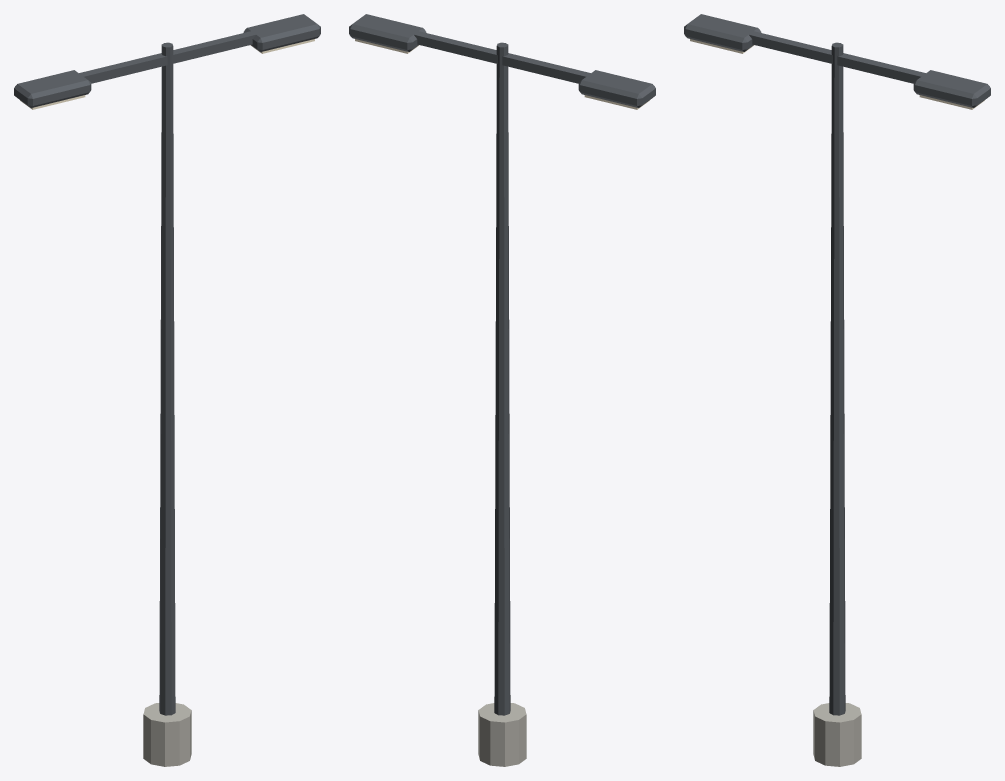
File: PD_LampPost.fbx
The picture shows the model from 3 angles, left to right: view 1: azimuth 30°, elevation 25°; view 2: azimuth 150°, elevation 25°; view 3: azimuth 330°, elevation 25°; orthographic projection.
Visible parts, largest first — view 1: PD_LampPost_Mesh; view 2: PD_LampPost_Mesh; view 3: PD_LampPost_Mesh.
Boxes of the visible parts, box(x1,y1,x2,y2) form: PD_LampPost_Mesh: box(14, 14, 320, 766); PD_LampPost_Mesh: box(349, 14, 655, 766); PD_LampPost_Mesh: box(684, 14, 990, 766).
Bounding box in the file's own units: 3.45 × 8 × 0.5.
